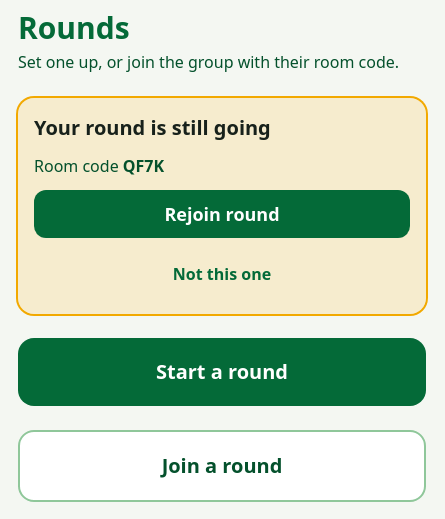
Test case: RoundsHome › lets a player dismiss a round they are finished with
Click the button "Not this one" at (222, 274), box top-left (34, 250), bottom-right (410, 298)
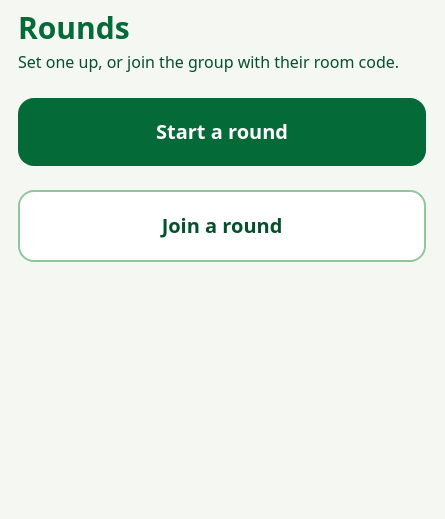
Now the button "Rejoin round" is gone
